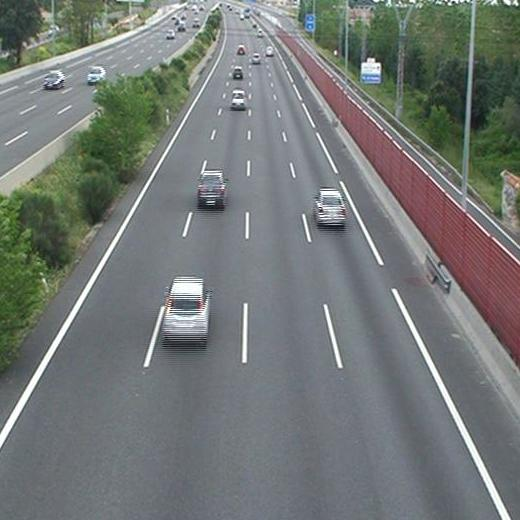car: (162, 279, 208, 340), (314, 190, 345, 224), (198, 172, 224, 205), (231, 90, 246, 108), (232, 67, 242, 78), (251, 53, 261, 63), (236, 45, 244, 54), (266, 47, 273, 56)
